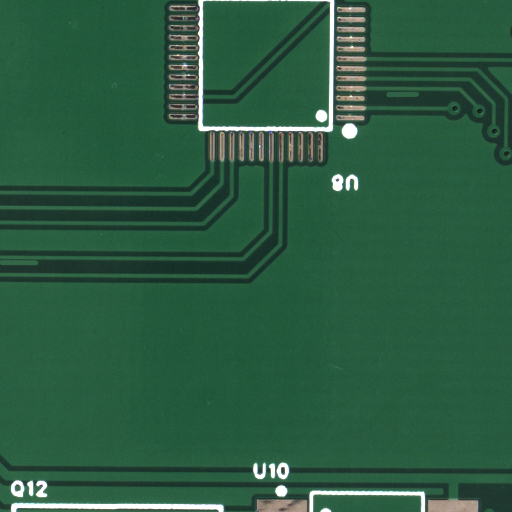Spurious_copper: (403, 94, 442, 104), (20, 262, 61, 269)
